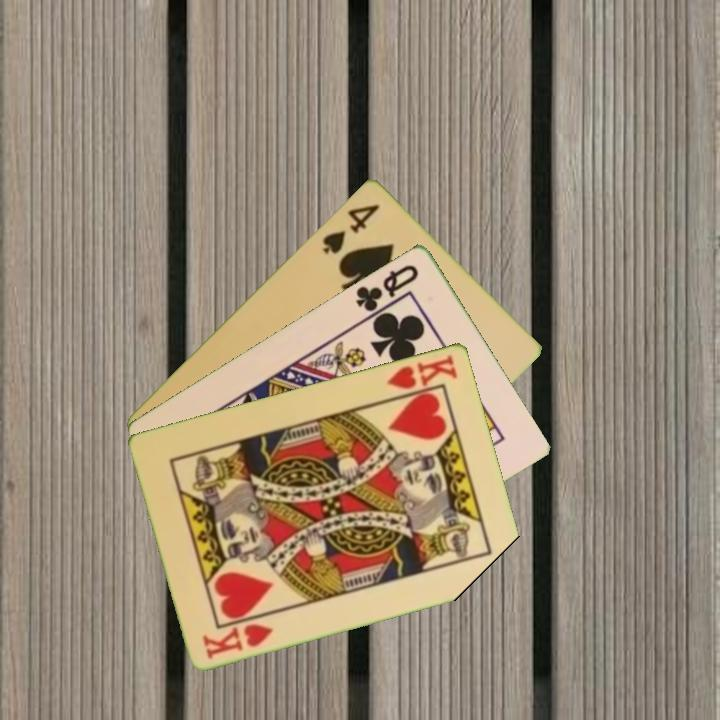4s: (319, 199, 383, 257)
Kh: (382, 350, 461, 402), (199, 619, 277, 662)
Qc: (352, 260, 422, 321)
